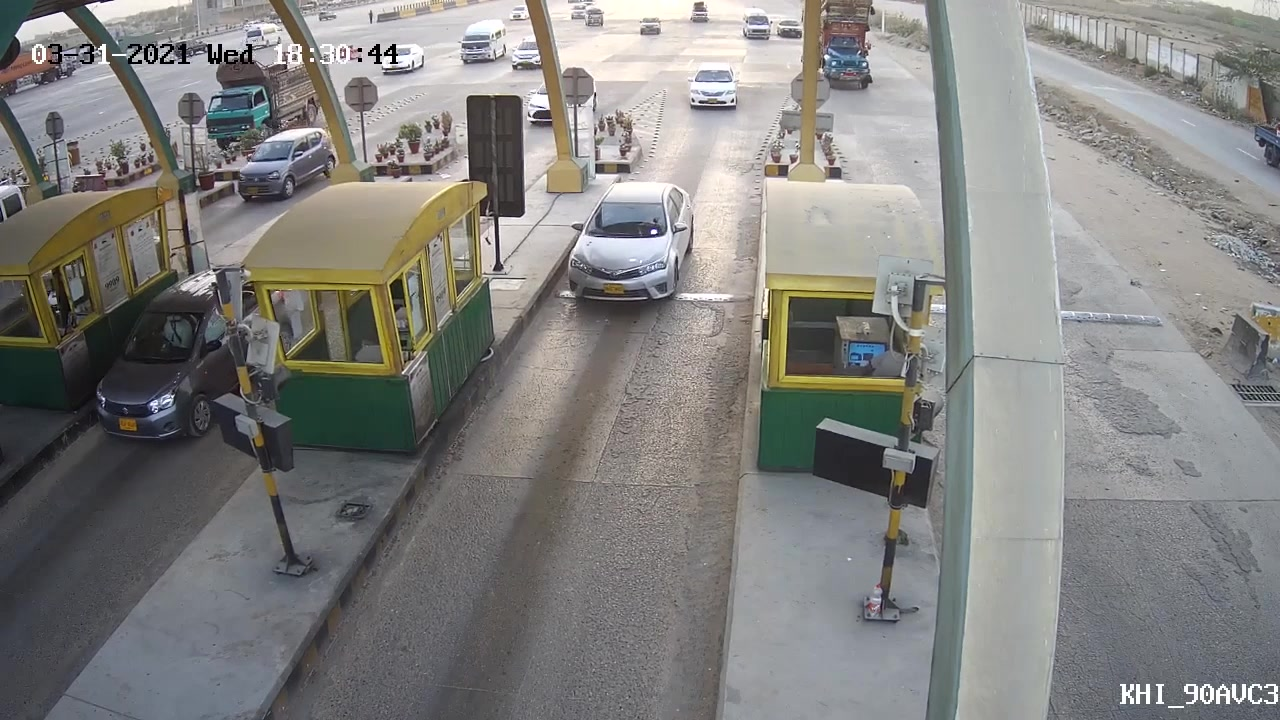F1: (558, 180, 700, 310)
